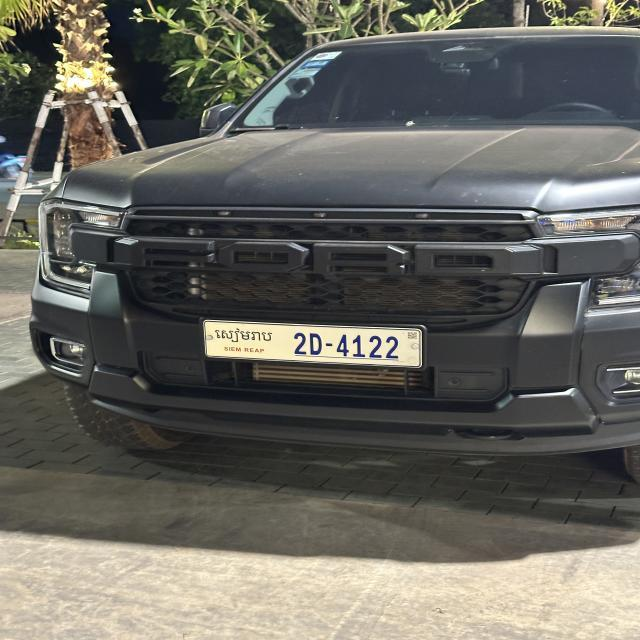Siem_Reap: (211, 327, 274, 344)
